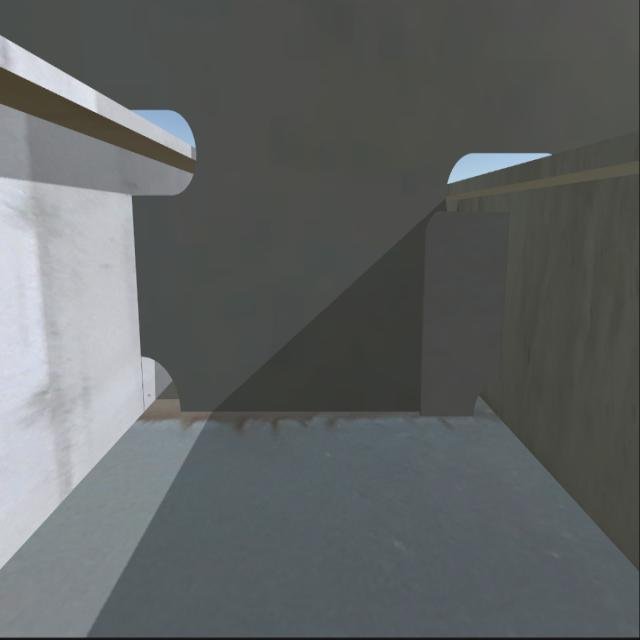fillet_hole: (144, 356, 188, 408), (471, 381, 501, 421)
fillet_yong_jeop_jang: (185, 415, 470, 415)
longi_yong_jeop_jang: (490, 212, 513, 384), (135, 200, 143, 354)
plate_CP05: (424, 206, 504, 417)
